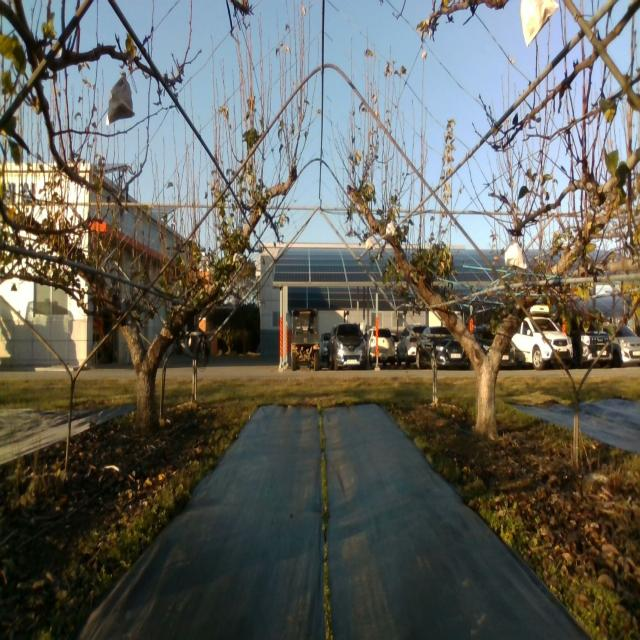pearbags: (520, 0, 559, 46), (106, 70, 136, 126), (504, 234, 527, 270)
